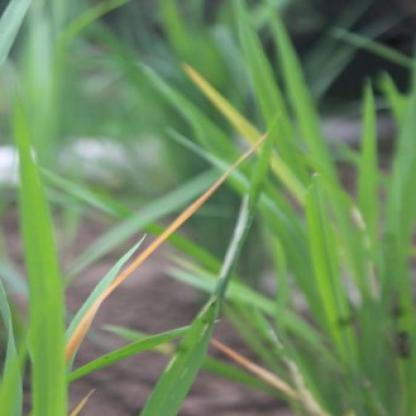Tungro: (70, 128, 276, 361), (184, 57, 346, 205)
